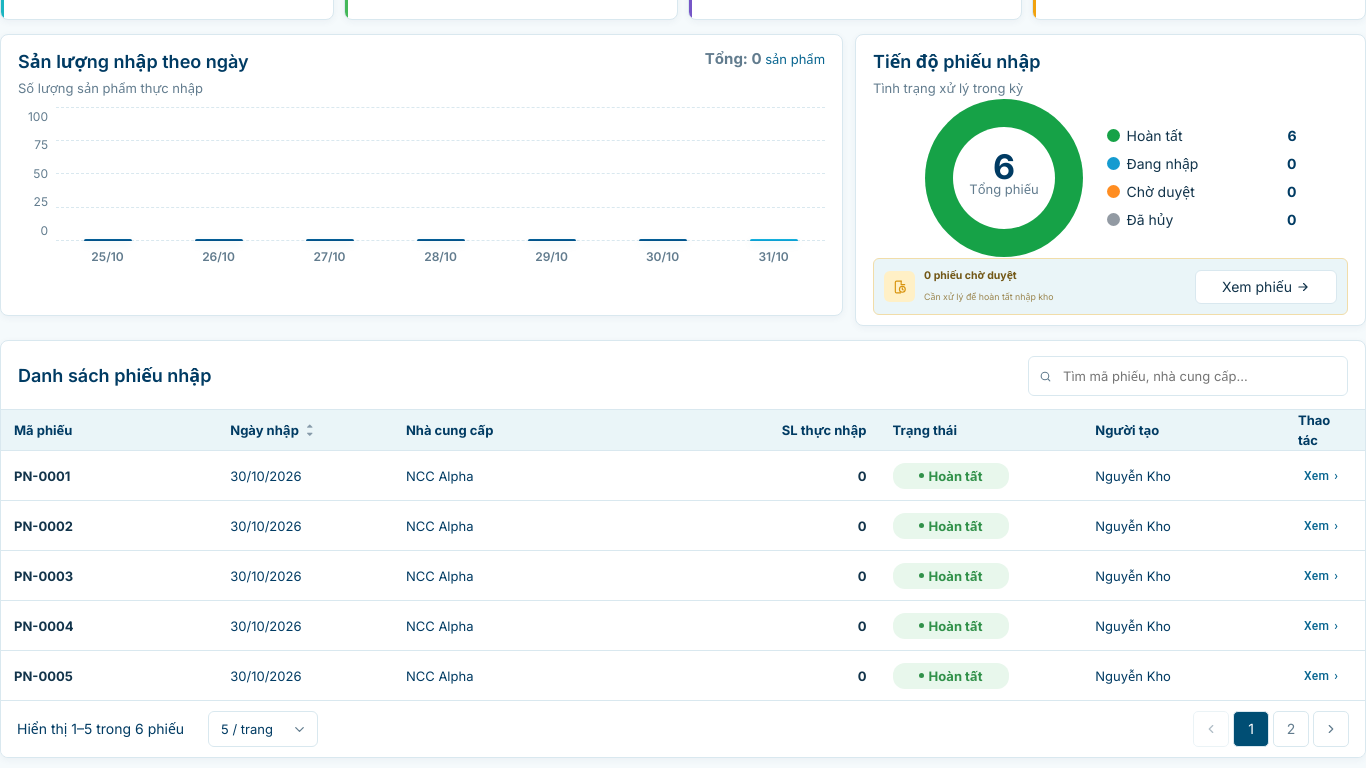
Test: RPT-01 · sắp xếp ngày nhập › đổi giữa mới nhất và cũ nhất trước khi phân trang
(page scrolled)
Click the button with aria-label "Sắp xếp ngày nhập: mới nhất trước": [273, 430] box [230,420,315,440]
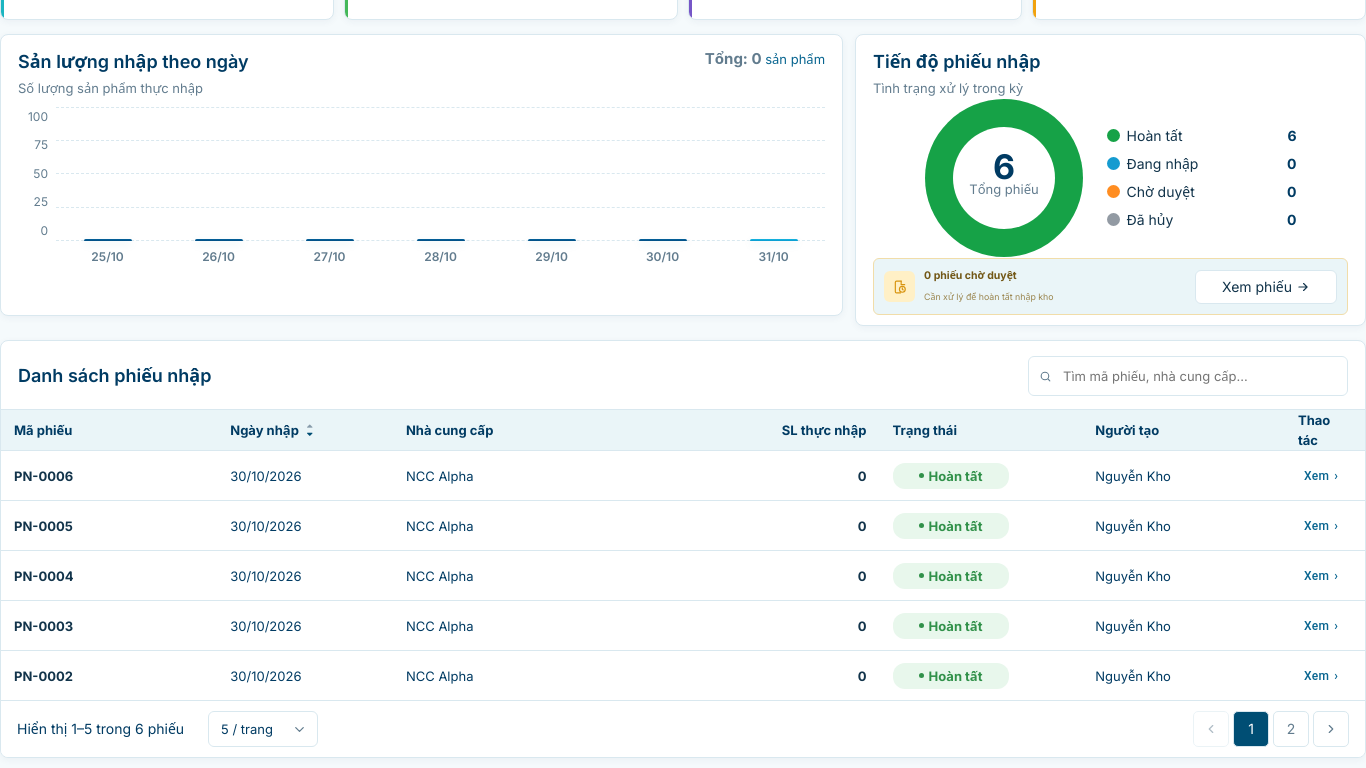
Now the row "PN-0006 30/10/2026 NCC Alpha 0 Hoàn tất Nguyễn Kho Xem ›" is shown, box [1,450,1365,500]
Click the button named "Sắp xếp ngày nhập: mới nhất trước": [273, 430] box [230,420,315,440]
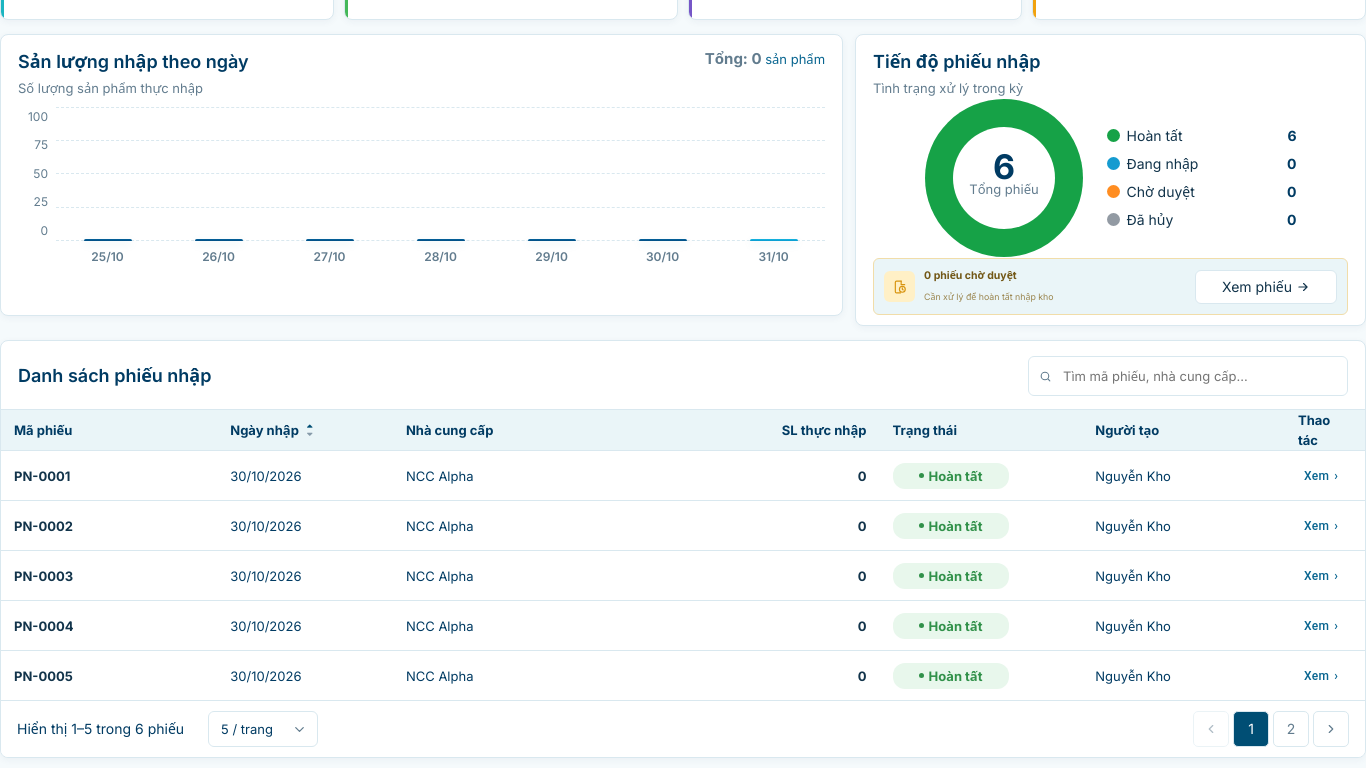
Now the row "PN-0001 30/10/2026 NCC Alpha 0 Hoàn tất Nguyễn Kho Xem ›" is shown, box [1,450,1365,500]
